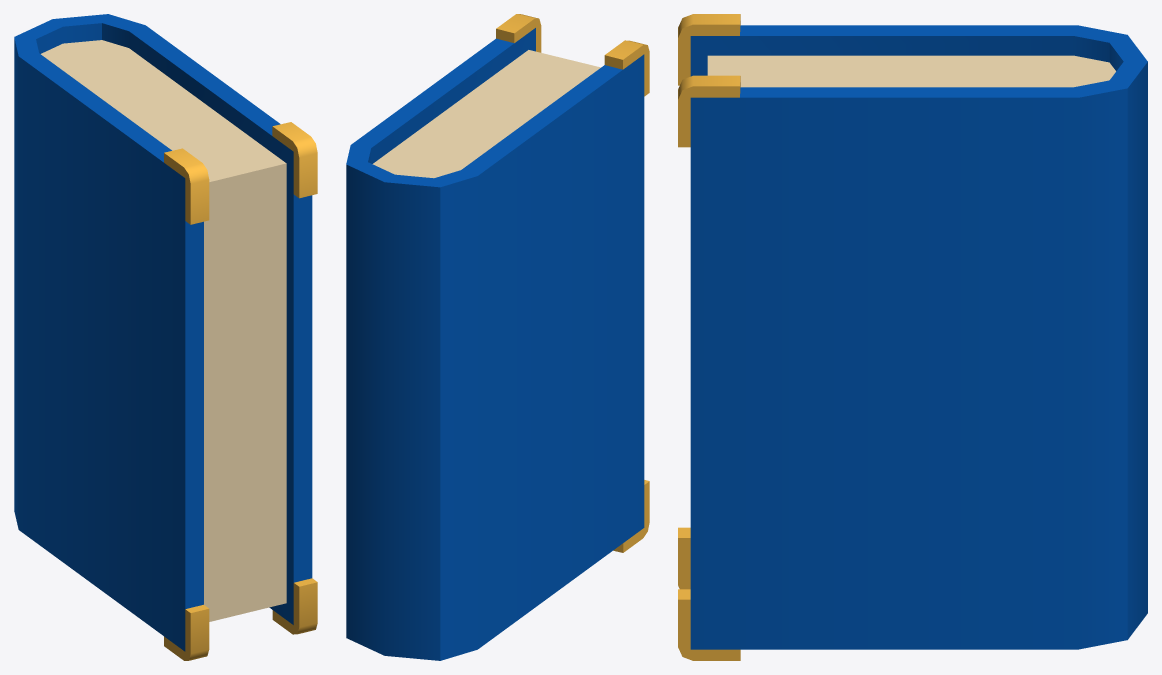
File: Book_5.fbx
3 views of the same model, side by side, from view 1: azimuth 30°, elevation 25°; view 2: azimuth 150°, elevation 25°; view 3: azimuth 270°, elevation 25° (orthographic). The views are drawn at different scales.
Parts seen in each view (by area): view 1: Book_5; view 2: Book_5; view 3: Book_5.
Part boxes in pixels (x1,y1,x2,y2): Book_5: [14, 14, 317, 660]; Book_5: [346, 14, 649, 660]; Book_5: [678, 14, 1147, 660].
Size of the model in its own units: 0.0712 by 0.2642 by 0.1957.
